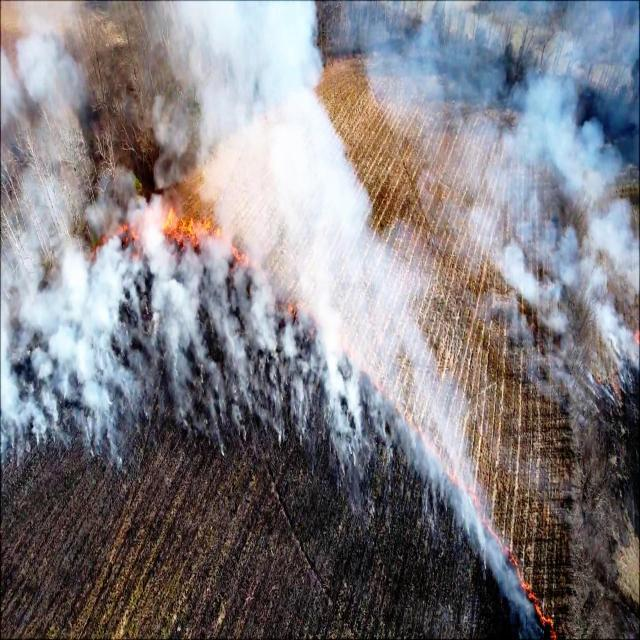Fire: (150, 196, 247, 270)
Smoke: (478, 0, 639, 379), (168, 8, 374, 282), (0, 234, 143, 483), (148, 276, 282, 460), (5, 6, 94, 228), (294, 338, 368, 492)
